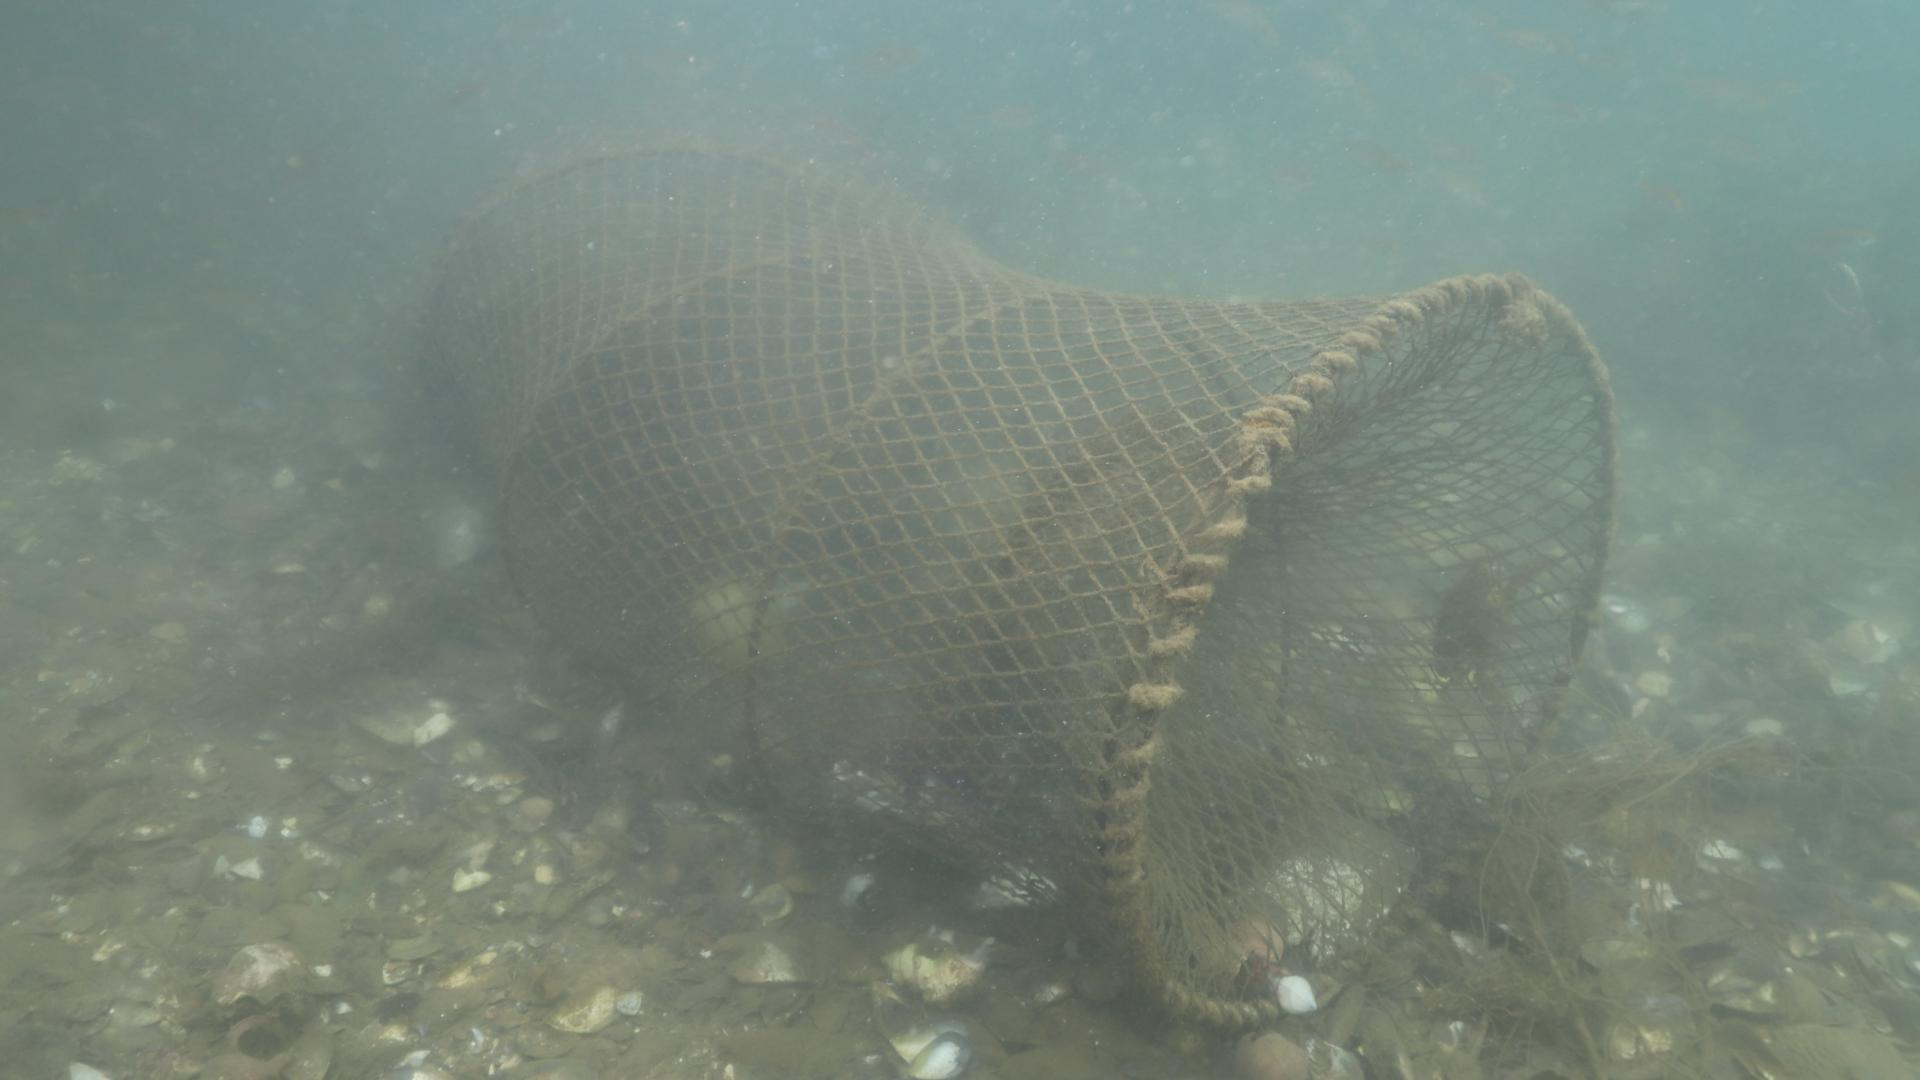spring fish trap: (417, 113, 1617, 1033)
